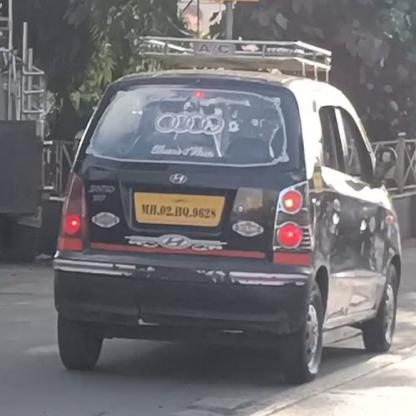license_plate: (131, 190, 225, 225)
